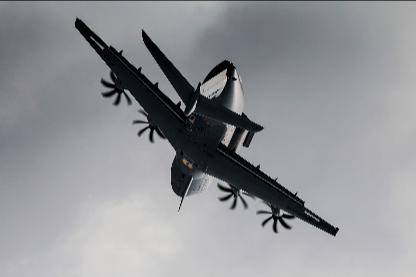A400M: (76, 18, 340, 236)
